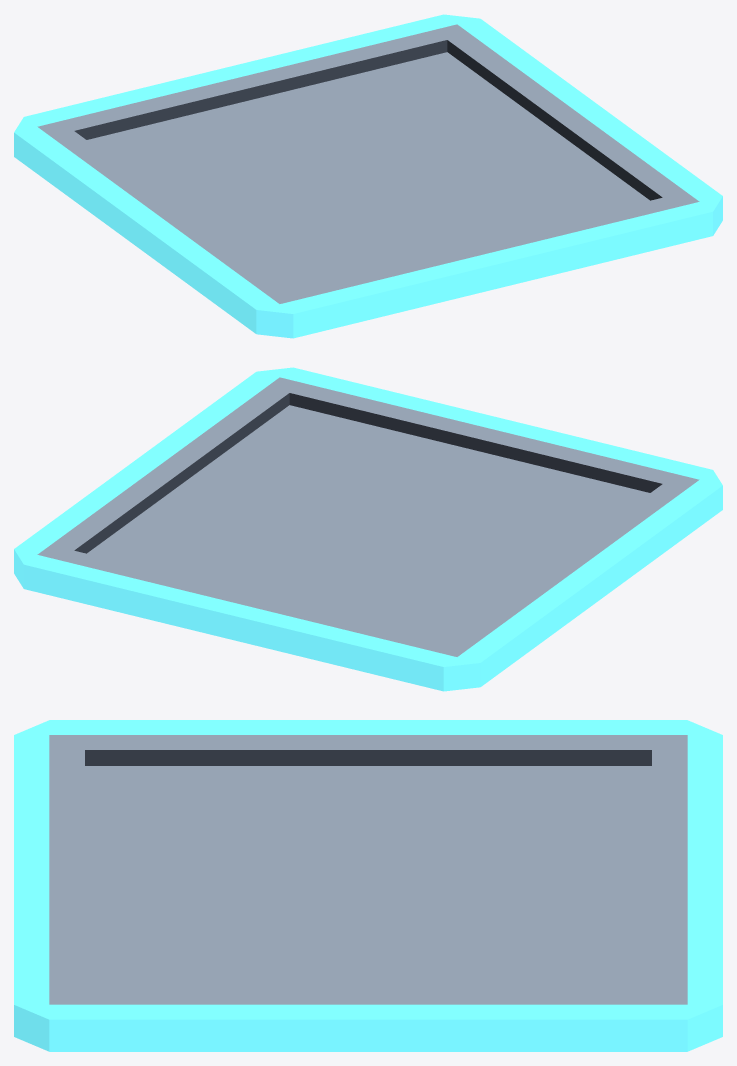
The model's file is platform_large.glb.
3 views of the same model, one above another, from view 1: azimuth 30°, elevation 25°; view 2: azimuth 150°, elevation 25°; view 3: azimuth 270°, elevation 25° (orthographic). The views are drawn at different scales.
Visible parts, largest first — view 1: platform_large; view 2: platform_large; view 3: platform_large.
Part boxes in pixels (box(x1,y1,x2,y2)): platform_large: box(14, 14, 722, 338); platform_large: box(14, 367, 722, 691); platform_large: box(14, 720, 722, 1051).
Bounding box in the file's own units: 2 × 0.1 × 2.
